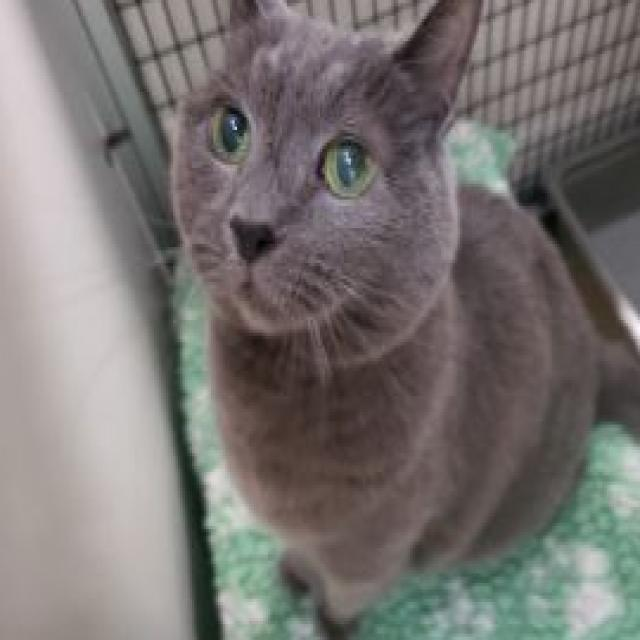Russian Blue: (170, 0, 640, 640)
